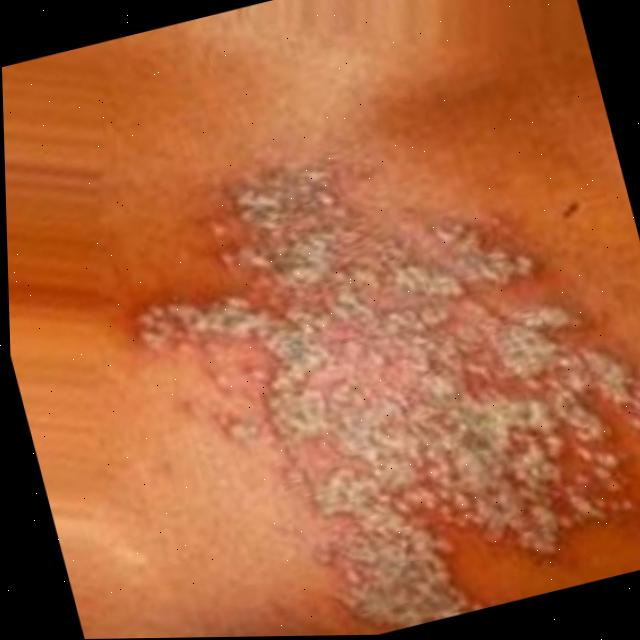Shingles: (94, 90, 640, 639)
